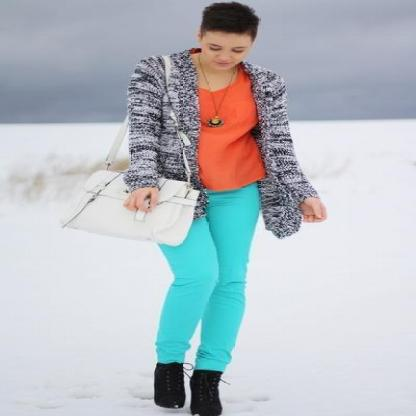bag: (68, 169, 200, 249)
jacket: (123, 48, 318, 238)
pants: (155, 184, 259, 372)
shirt: (197, 75, 264, 190)
shoe: (154, 362, 221, 415)
